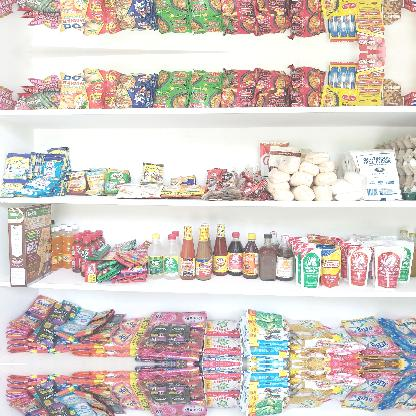Koko-Krunch: (6, 203, 56, 289)
